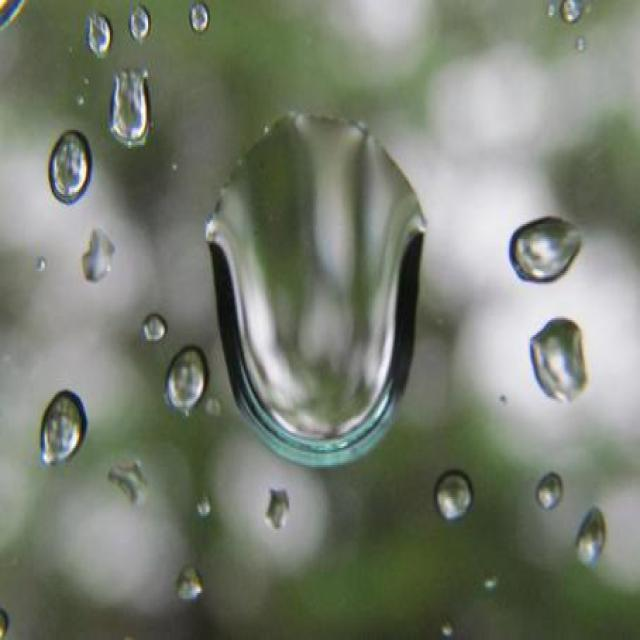raindrop: (185, 82, 438, 482), (482, 195, 600, 302), (516, 304, 606, 422), (26, 362, 96, 483), (101, 60, 165, 173), (42, 122, 100, 212), (160, 332, 216, 420), (428, 454, 486, 536)
